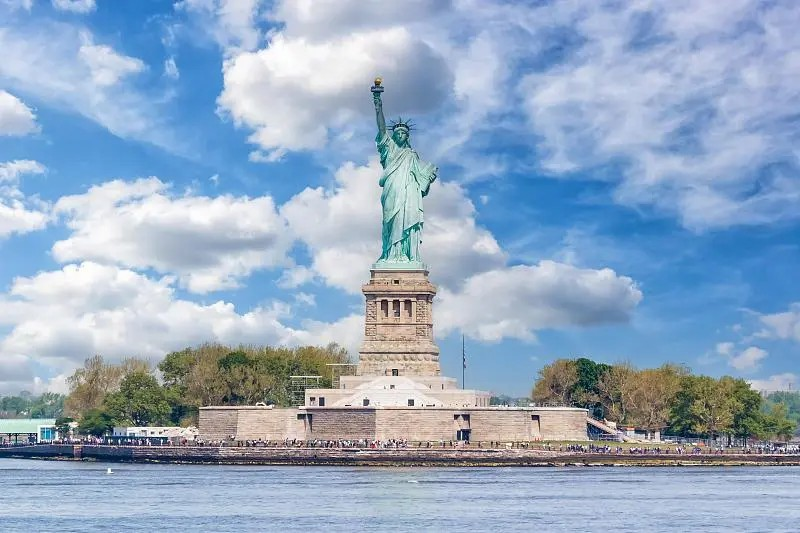SL: (354, 77, 440, 375)
